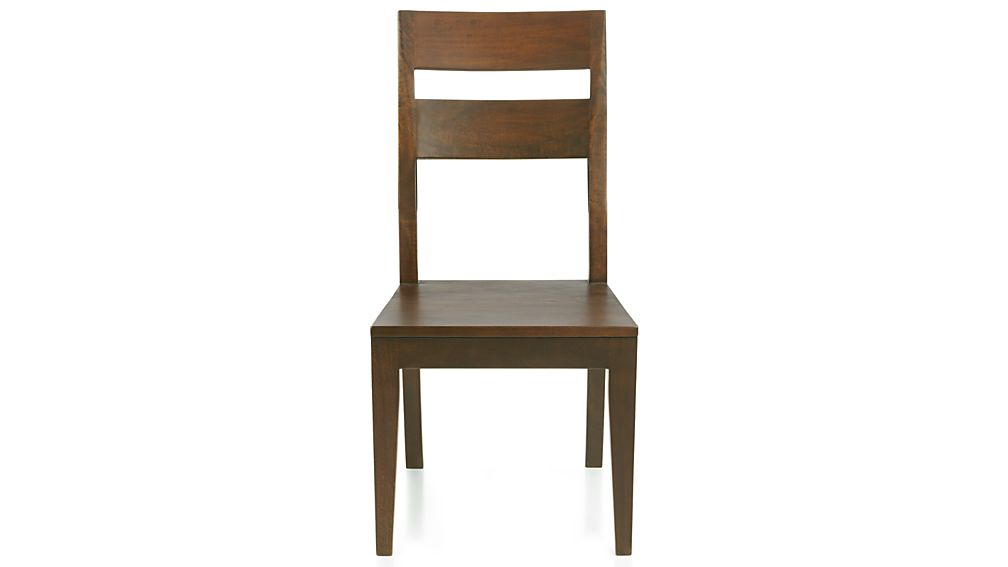chairs: (364, 6, 657, 554)
